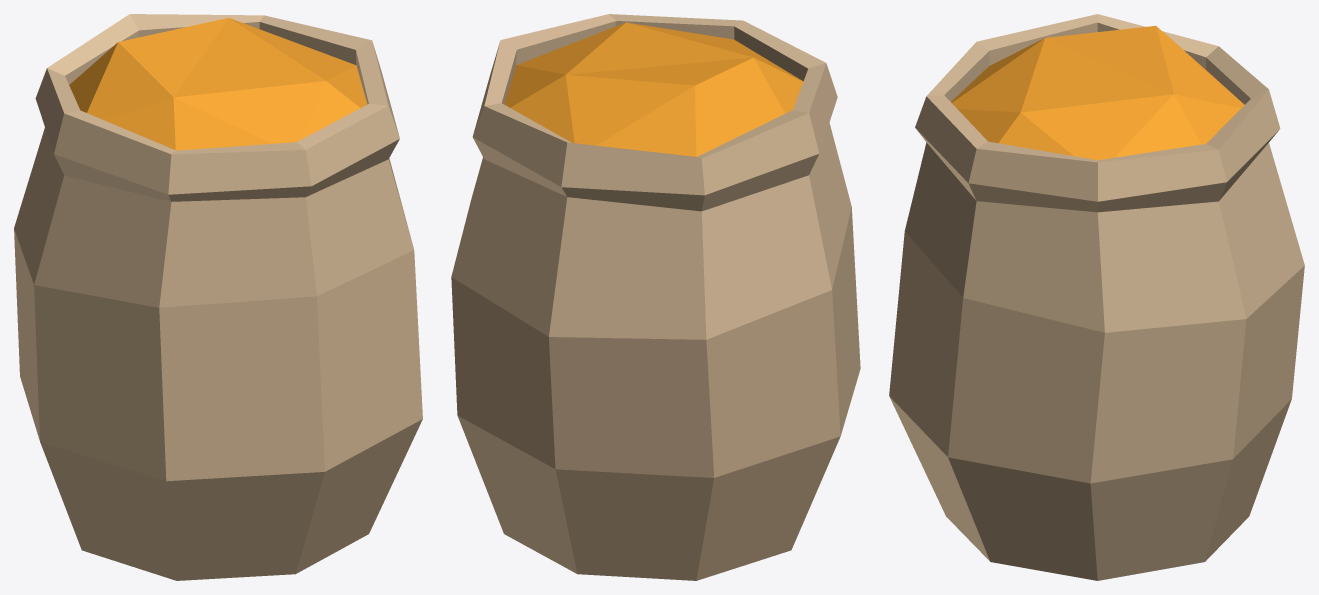
Rendered from egypt_egypt-spice-big.fbx.
3 renders of one model, left to right at view 1: azimuth 30°, elevation 25°; view 2: azimuth 150°, elevation 25°; view 3: azimuth 270°, elevation 25°, orthographic. The views are drawn at different scales.
Visible parts, largest first — view 1: egypt_egypt_spice_big; view 2: egypt_egypt_spice_big; view 3: egypt_egypt_spice_big.
Boxes of the visible parts, x1,y1,x2,y2 form: egypt_egypt_spice_big: [14, 14, 422, 580]; egypt_egypt_spice_big: [451, 14, 860, 580]; egypt_egypt_spice_big: [889, 14, 1304, 580].
Bounding box in the file's own units: 162 × 200 × 165.
